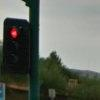traffic lights: (3, 17, 31, 75)
